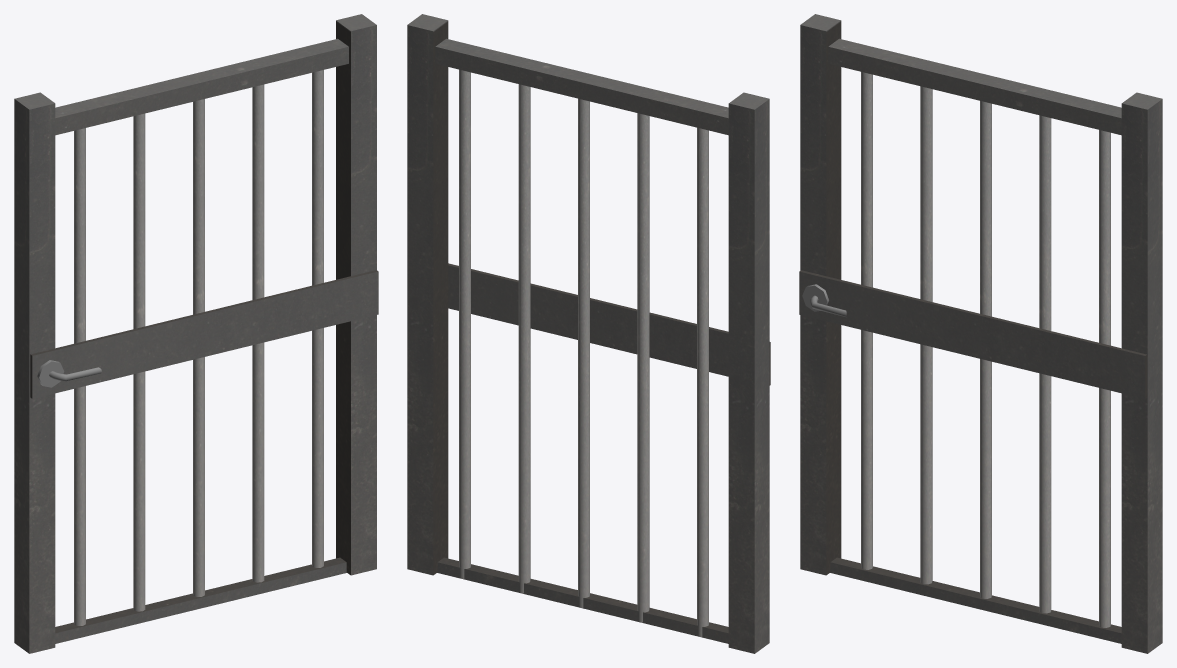
Rendered from Prop_SteelFence_Door.FBX.
3 views of the same model, side by side, from view 1: azimuth 30°, elevation 25°; view 2: azimuth 150°, elevation 25°; view 3: azimuth 330°, elevation 25° (orthographic).
Parts seen in each view (by area): view 1: Box001; view 2: Box001; view 3: Box001.
Boxes of the visible parts, x1,y1,x2,y2 form: Box001: [14, 14, 378, 653]; Box001: [407, 14, 770, 653]; Box001: [799, 14, 1162, 653].
Bounding box in the file's own units: 134 × 200 × 18.67.
1 material, 1 textured.
